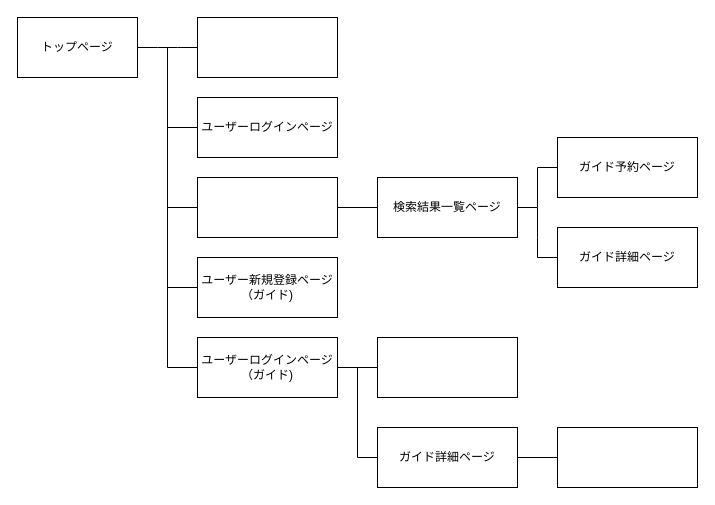
Some shapes in this 715 by 505 pixel diagram are drawn without their labels. Each missing label, with the box of its shape:
ガイド検索ページ: (196, 176, 338, 238)
ガイド登録ページ: (376, 336, 518, 398)
ガイド編集ページ: (556, 426, 698, 488)
ユーザー新規登録ページ: (196, 16, 338, 78)
